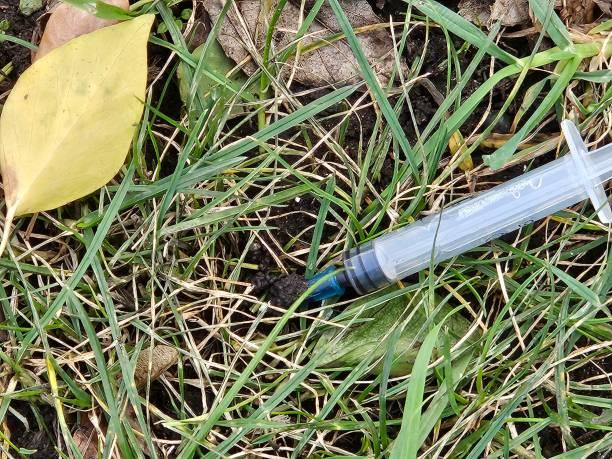Syringe: (309, 120, 611, 299)
